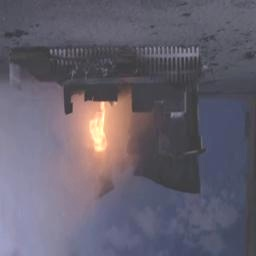fire: (79, 101, 120, 164)
smoke: (1, 156, 129, 255)
